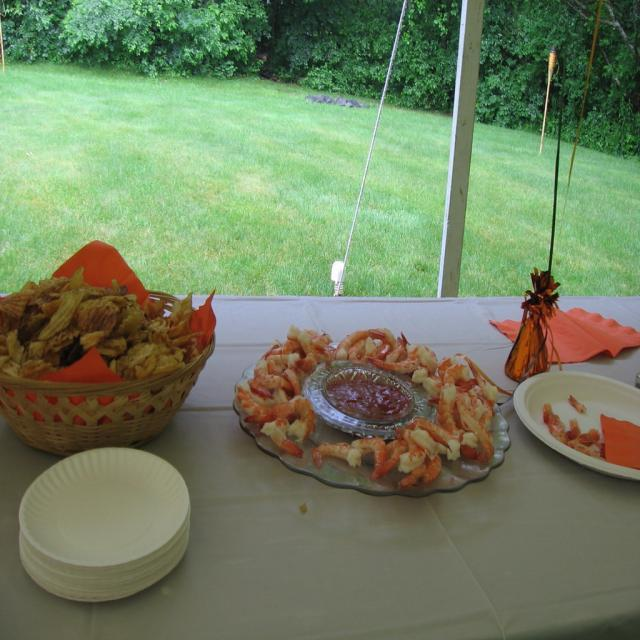ceramic plate: (18, 424, 186, 604)
